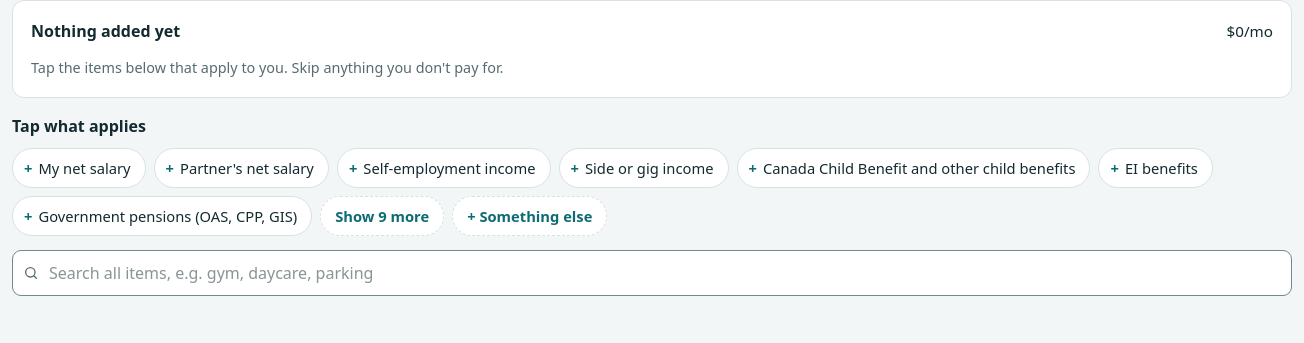
Test: BucketStep › updates the step total as amounts and frequencies change
Click the button with aria-label "Add My net salary": (79, 168) [12,148,146,188]
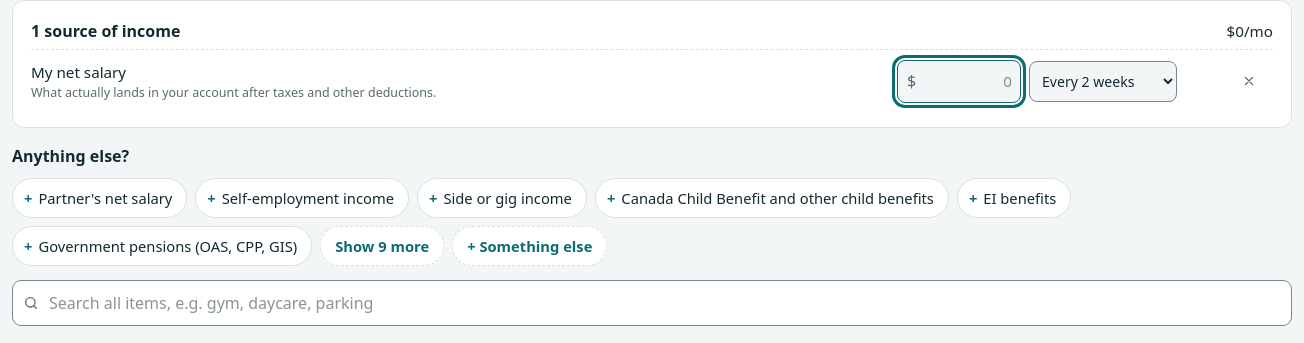
In the field named "My net salary amount": (959, 81) [897,60,1021,103], type "1000"
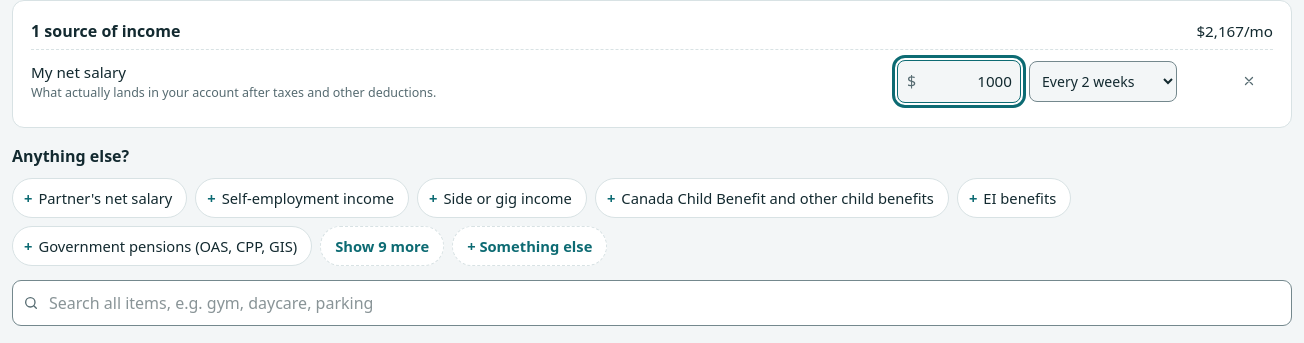
Expected: the text "$2,167/mo" is shown, [1196,20,1273,43]
Select "Monthly" in the dropdown named "My net salary frequency": (1103, 81) [1029,61,1177,102]
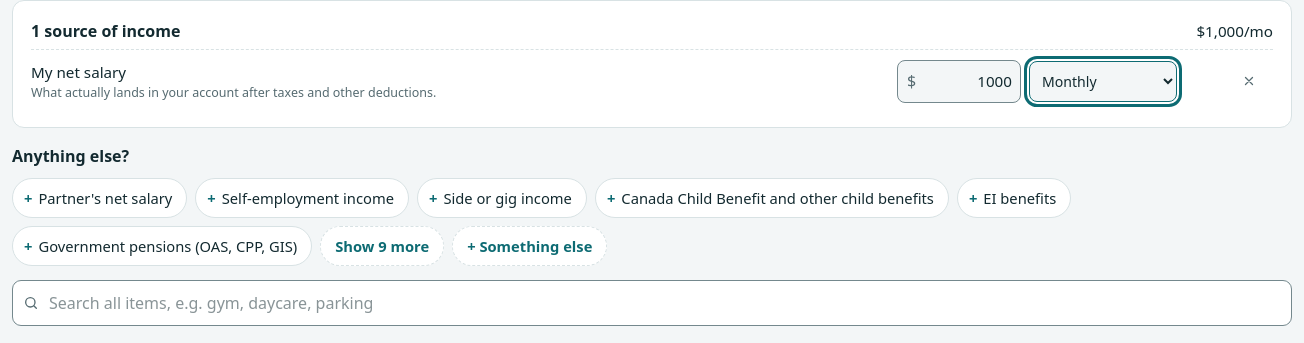
Expected: the text "$1,000/mo" is shown, [1196,20,1273,43]
